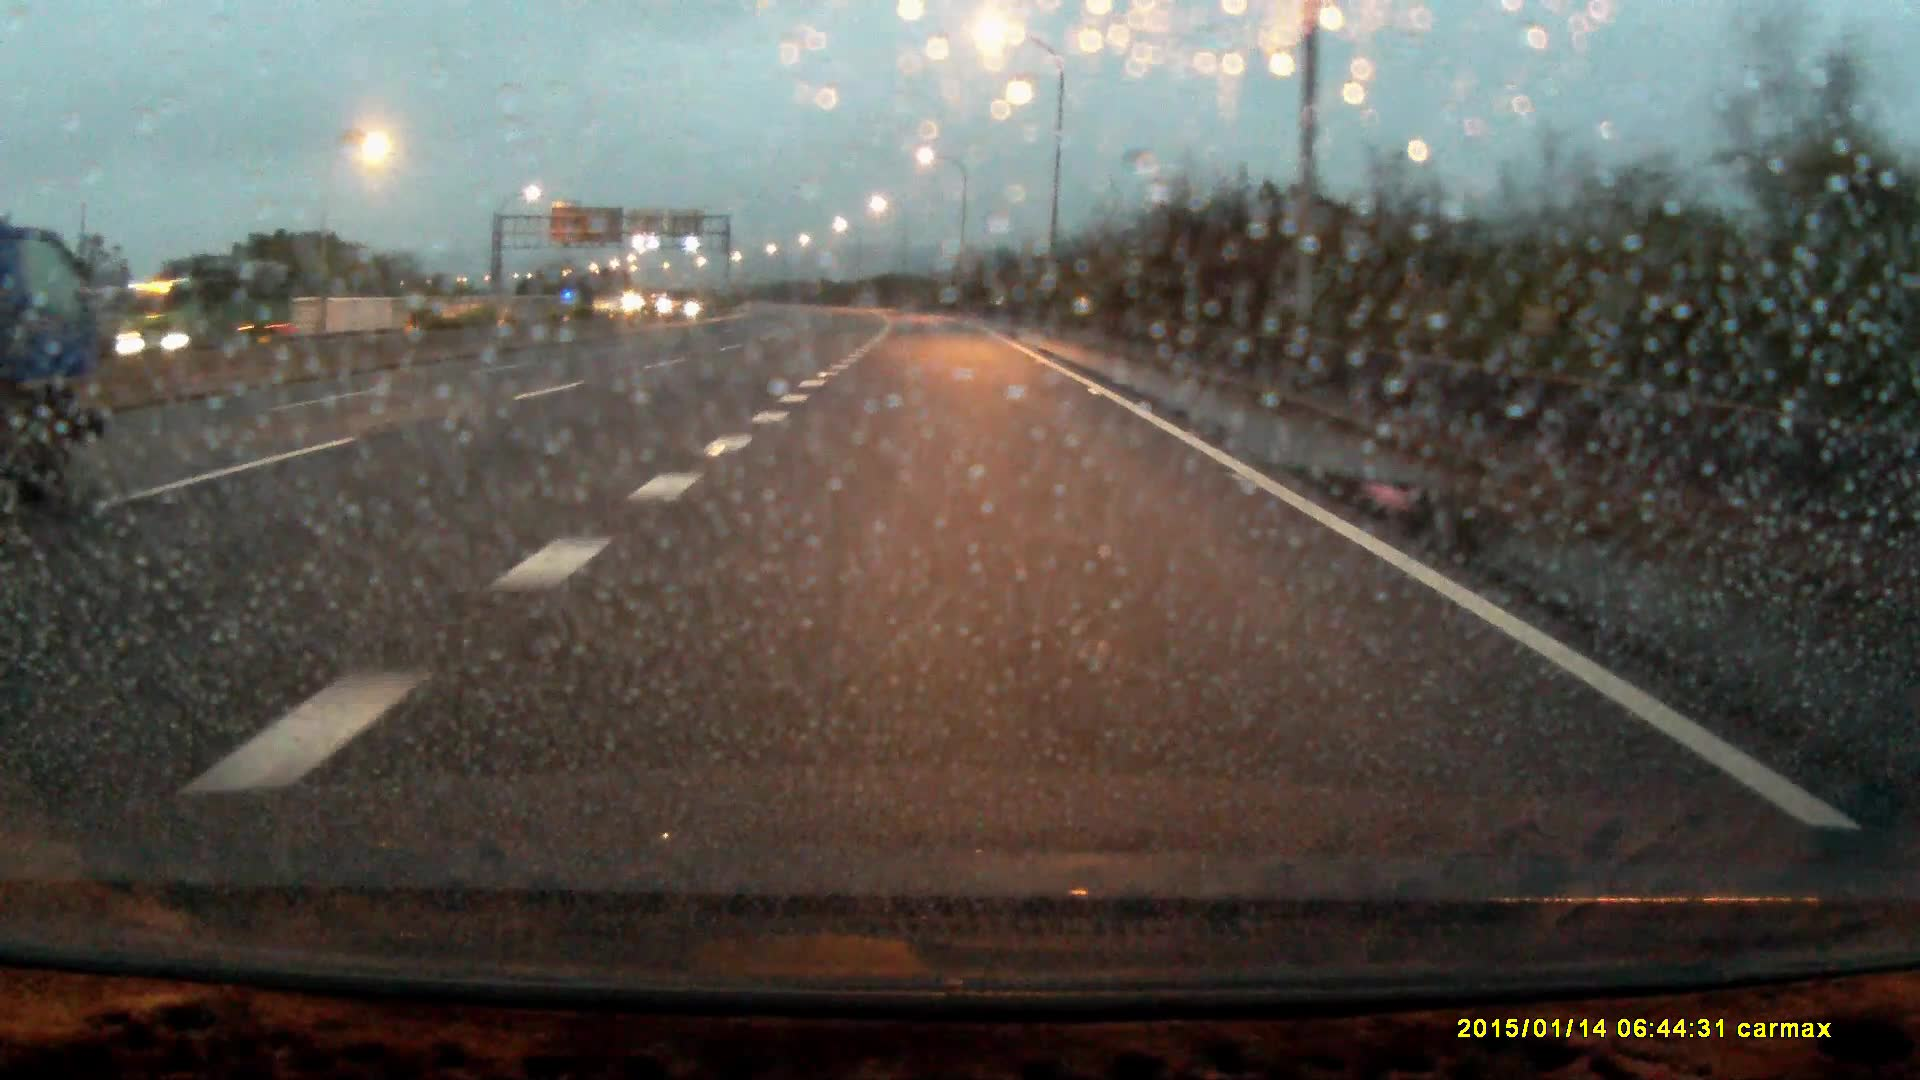vehicle: (156, 262, 295, 351)
